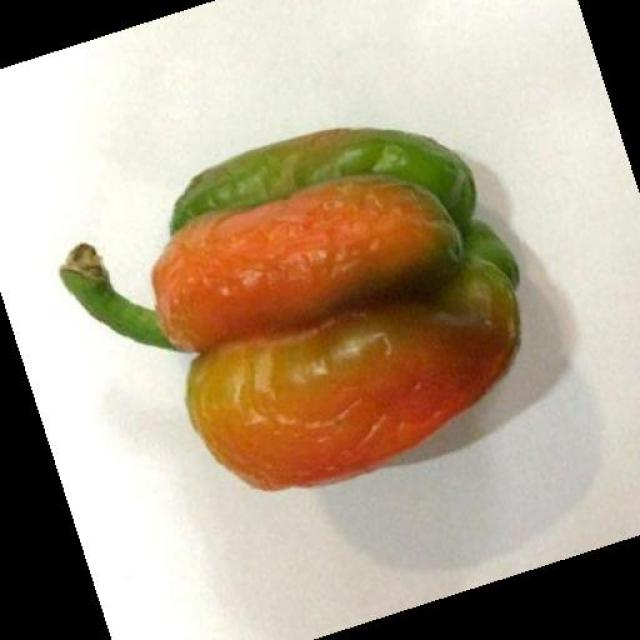Stale_Capsicum: (77, 154, 568, 463)
